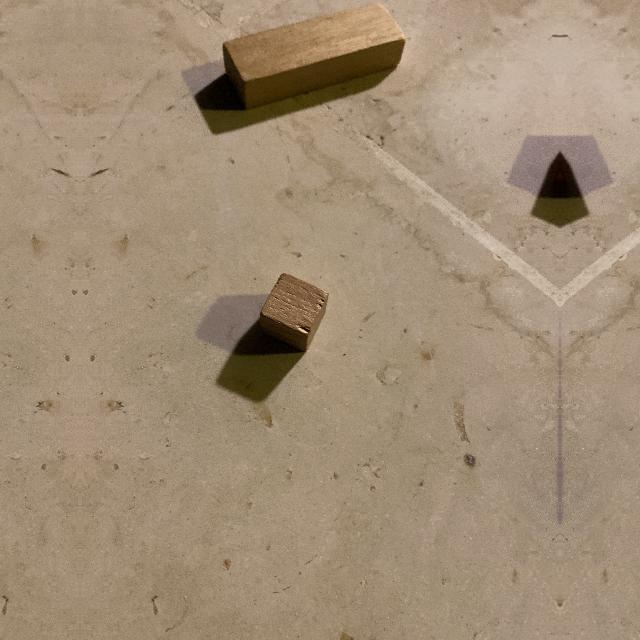cube: (256, 273, 329, 353)
jenga: (223, 3, 405, 110)
